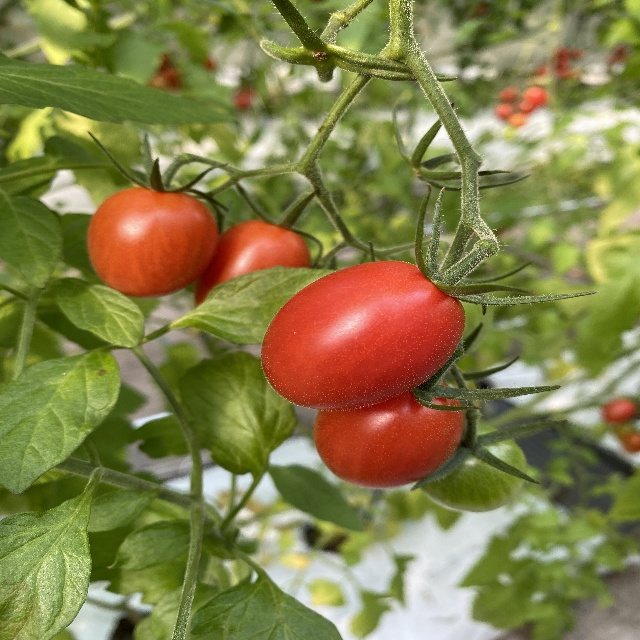l_fully_ripened: (260, 260, 467, 411), (315, 372, 465, 487), (193, 220, 312, 310)
l_green: (418, 423, 528, 513)
l_half_ripened: (85, 187, 223, 299)
